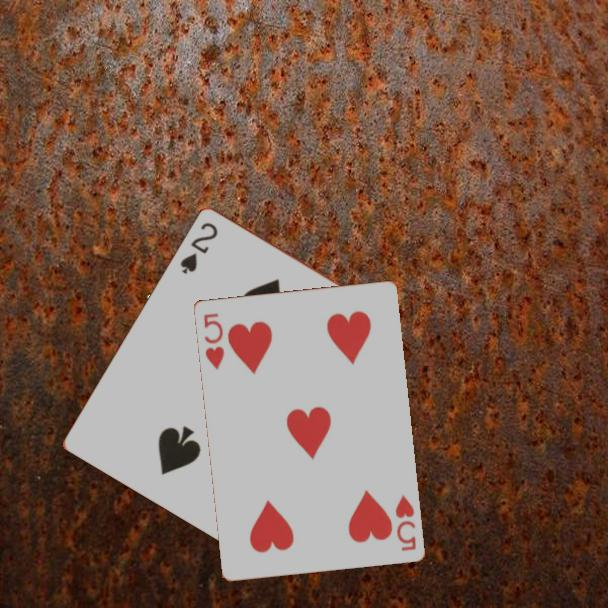h05: (391, 491, 419, 554), (200, 309, 227, 372)
s02: (176, 218, 221, 277)
